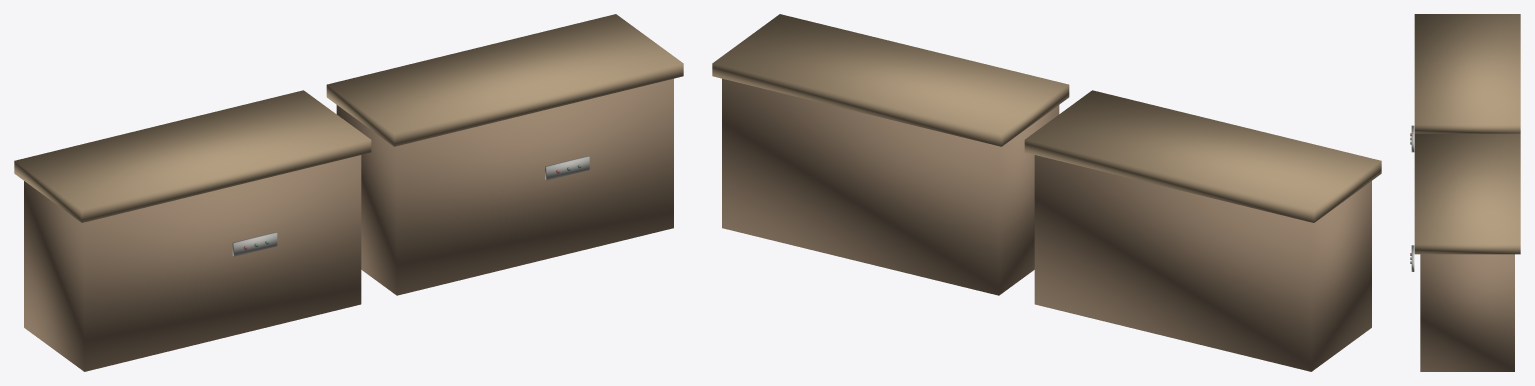
The model's file is hotel_reception_counter__cluster.glb.
The picture shows the model from 3 angles, left to right: view 1: azimuth 30°, elevation 25°; view 2: azimuth 150°, elevation 25°; view 3: azimuth 270°, elevation 25°; orthographic projection. The views are drawn at different scales.
Visible parts, largest first — view 1: world; view 2: world; view 3: world.
Boxes of the visible parts, x1,y1,x2,y2 form: world: [14, 14, 683, 371]; world: [712, 14, 1381, 371]; world: [1410, 14, 1520, 371].
Size of the model in its own units: 3.91 by 1.03 by 0.791.
